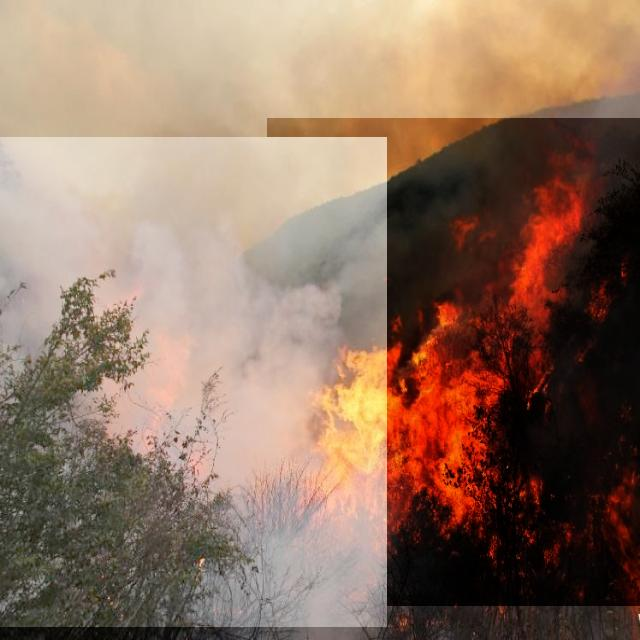Fire: (267, 118, 640, 606)
Smoke: (0, 137, 387, 627)
